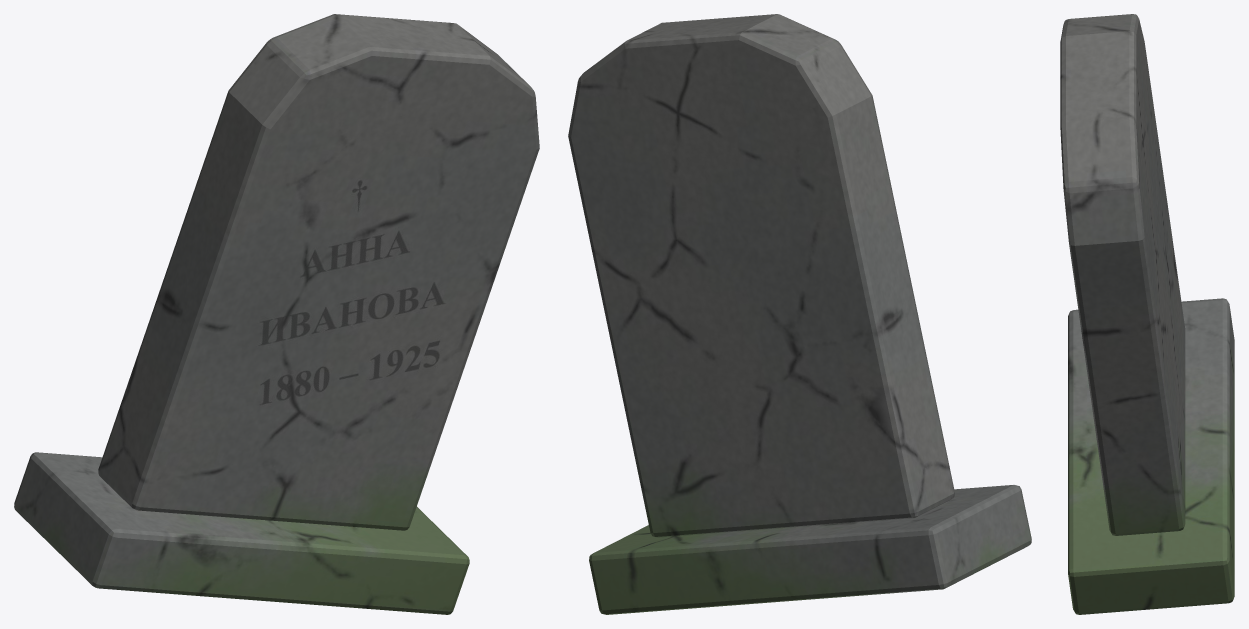
The model's file is gravestone_headstone_tilted_a.glb.
3 renders of one model, left to right at view 1: azimuth 30°, elevation 25°; view 2: azimuth 150°, elevation 25°; view 3: azimuth 270°, elevation 25°, orthographic. The views are drawn at different scales.
Visible parts, largest first — view 1: gravestone_headstone_tilted_a; view 2: gravestone_headstone_tilted_a; view 3: gravestone_headstone_tilted_a.
Part boxes in pixels (box(x1,y1,x2,y2)): gravestone_headstone_tilted_a: box(14, 14, 539, 614); gravestone_headstone_tilted_a: box(568, 14, 1031, 614); gravestone_headstone_tilted_a: box(1060, 14, 1234, 614).
Size of the model in its own units: 0.9245 by 1.19 by 0.3431.
1 material, 1 textured.
